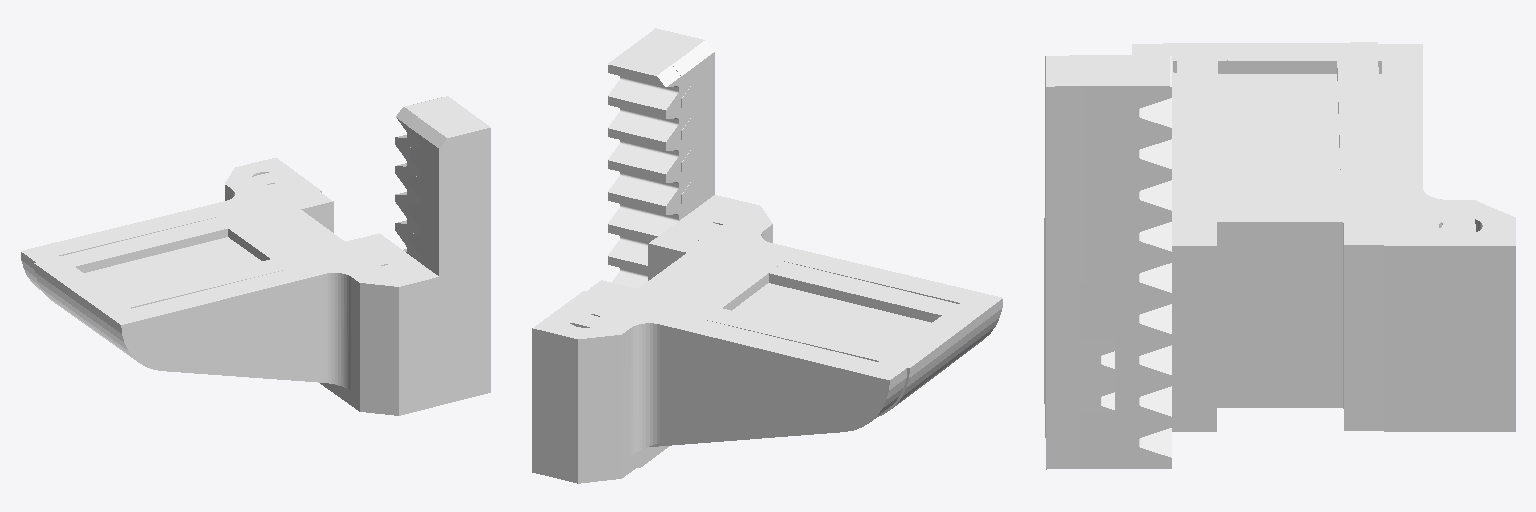
URDF robot description (Simplified_gripper):
<?xml version="1.0" encoding="utf-8"?>
<!-- This URDF was automatically created by SolidWorks to URDF Exporter! Originally created by [author] ([email redacted]) 
     Commit Version: 1.6.0-4-g7f85cfe  Build Version: 1.6.7995.38578
     For more information, please see http://wiki.ros.org/sw_urdf_exporter -->
<robot
  name="Simplified_gripper">
  <link
    name="base_link">
    <inertial>
      <origin
        xyz="0.000218865638025569 -5.75810071732045E-05 0.0188189080442559"
        rpy="0 0 0" />
      <mass
        value="0.0779213197542101" />
      <inertia
        ixx="1.27018244320936E-05"
        ixy="-1.98293669536147E-07"
        ixz="-2.58632439119383E-07"
        iyy="2.84792796640278E-05"
        iyz="-4.25276765641554E-07"
        izz="3.57075748419373E-05" />
    </inertial>
    <visual>
      <origin
        xyz="0 0 0"
        rpy="0 0 0" />
      <geometry>
        <mesh
          filename="package://Simplified_gripper/meshes/base_link.STL" />
      </geometry>
      <material
        name="">
        <color
          rgba="0.792156862745098 0.819607843137255 0.933333333333333 1" />
      </material>
    </visual>
    <collision>
      <origin
        xyz="0 0 0"
        rpy="0 0 0" />
      <geometry>
        <mesh
          filename="package://Simplified_gripper/meshes/base_link.STL" />
      </geometry>
    </collision>
  </link>
  <link
    name="AR4_SG1_jaw1">
    <inertial>
      <origin
        xyz="0.0068393 0.0018263 -0.0052235"
        rpy="0 0 0" />
      <mass
        value="0.0080032" />
      <inertia
        ixx="7.6628E-07"
        ixy="2.1048E-07"
        ixz="4.3688E-09"
        iyy="1.0775E-06"
        iyz="-7.4587E-08"
        izz="1.3907E-06" />
    </inertial>
    <visual>
      <origin
        xyz="0 0 0"
        rpy="0 0 0" />
      <geometry>
        <mesh
          filename="package://Simplified_gripper/meshes/AR4_SG1_jaw1.STL" />
      </geometry>
      <material
        name="">
        <color
          rgba="1 1 1 1" />
      </material>
    </visual>
    <collision>
      <origin
        xyz="0 0 0"
        rpy="0 0 0" />
      <geometry>
        <mesh
          filename="package://Simplified_gripper/meshes/AR4_SG1_jaw1.STL" />
      </geometry>
    </collision>
  </link>
  <joint
    name="AR4_SG1_jaw1_joint"
    type="prismatic">
    <origin
      xyz="-0.015 -0.0029 0.04295"
      rpy="0 -1.5708 0" />
    <parent
      link="base_link" />
    <child
      link="AR4_SG1_jaw1" />
    <axis
      xyz="0 0 1" />
    <limit
      lower="0"
      upper="0"
      effort="0"
      velocity="0" />
  </joint>
  <link
    name="AR4_SG1_jaw2">
    <inertial>
      <origin
        xyz="0.0068393 0.0018263 -0.0052235"
        rpy="0 0 0" />
      <mass
        value="0.0080032" />
      <inertia
        ixx="7.6628E-07"
        ixy="2.1048E-07"
        ixz="4.3688E-09"
        iyy="1.0775E-06"
        iyz="-7.4587E-08"
        izz="1.3907E-06" />
    </inertial>
    <visual>
      <origin
        xyz="0 0 0"
        rpy="0 0 0" />
      <geometry>
        <mesh
          filename="package://Simplified_gripper/meshes/AR4_SG1_jaw2.STL" />
      </geometry>
      <material
        name="">
        <color
          rgba="1 1 1 1" />
      </material>
    </visual>
    <collision>
      <origin
        xyz="0 0 0"
        rpy="0 0 0" />
      <geometry>
        <mesh
          filename="package://Simplified_gripper/meshes/AR4_SG1_jaw2.STL" />
      </geometry>
    </collision>
  </link>
  <joint
    name="AR4_SG1_jaw2_joint"
    type="prismatic">
    <origin
      xyz="0.015 -0.0029 0.04295"
      rpy="-2.1834 -1.5708 2.196" />
    <parent
      link="base_link" />
    <child
      link="AR4_SG1_jaw2" />
    <axis
      xyz="0 0 1" />
    <limit
      lower="0"
      upper="0"
      effort="0"
      velocity="0" />
  </joint>
</robot>

--- Render facts (derived) ---
The picture shows the robot from 3 angles, left to right: view 1: azimuth 30°, elevation 25°; view 2: azimuth 150°, elevation 25°; view 3: azimuth 270°, elevation 25°; orthographic projection.
Robot: Simplified_gripper — 3 links, 2 joints (2 prismatic); root link base_link; default pose: every joint at zero.
Links seen in each view (by area): view 1: AR4_SG1_jaw2, AR4_SG1_jaw1; view 2: AR4_SG1_jaw1, AR4_SG1_jaw2; view 3: AR4_SG1_jaw1, AR4_SG1_jaw2.
Boxes of the visible links, x1,y1,x2,y2 form: AR4_SG1_jaw2: (34, 106, 490, 415); AR4_SG1_jaw1: (21, 96, 470, 308); AR4_SG1_jaw1: (532, 40, 957, 483); AR4_SG1_jaw2: (552, 28, 1002, 467); AR4_SG1_jaw1: (1079, 44, 1515, 468); AR4_SG1_jaw2: (1044, 42, 1475, 468).
Bounding box of the posed robot: 41.68 × 34.44 × 30.9 m (x, y, z).
3 mesh visuals loaded from 3 distinct referenced files (3 binary STL).